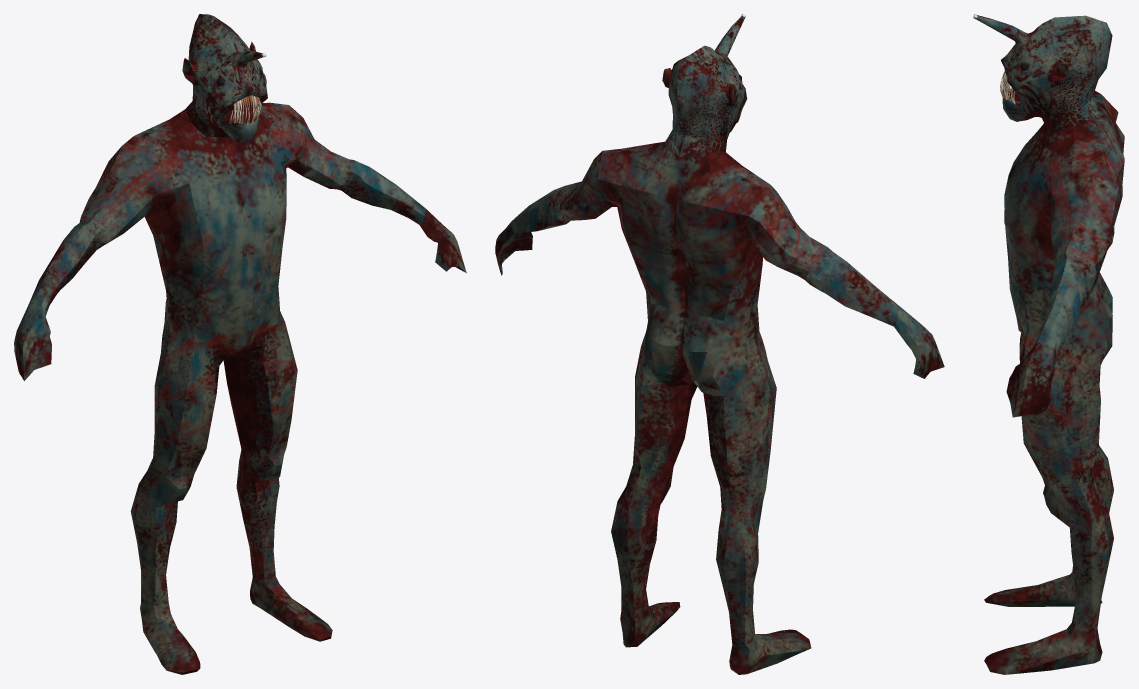
File: Hombrepez.fbx
3 views of the same model, side by side, from view 1: azimuth 30°, elevation 25°; view 2: azimuth 150°, elevation 25°; view 3: azimuth 270°, elevation 25° (orthographic). The views are drawn at different scales.
Parts seen in each view (by area): view 1: HOMBRE PEZ; view 2: HOMBRE PEZ; view 3: HOMBRE PEZ.
Boxes of the visible parts, <box> form: HOMBRE PEZ: <box>14,14,466,674</box>; HOMBRE PEZ: <box>495,14,944,674</box>; HOMBRE PEZ: <box>973,14,1124,674</box>.
Bounding box in the file's own units: 150 × 197 × 43.61.
Materials: 5 (4 with a texture image).
